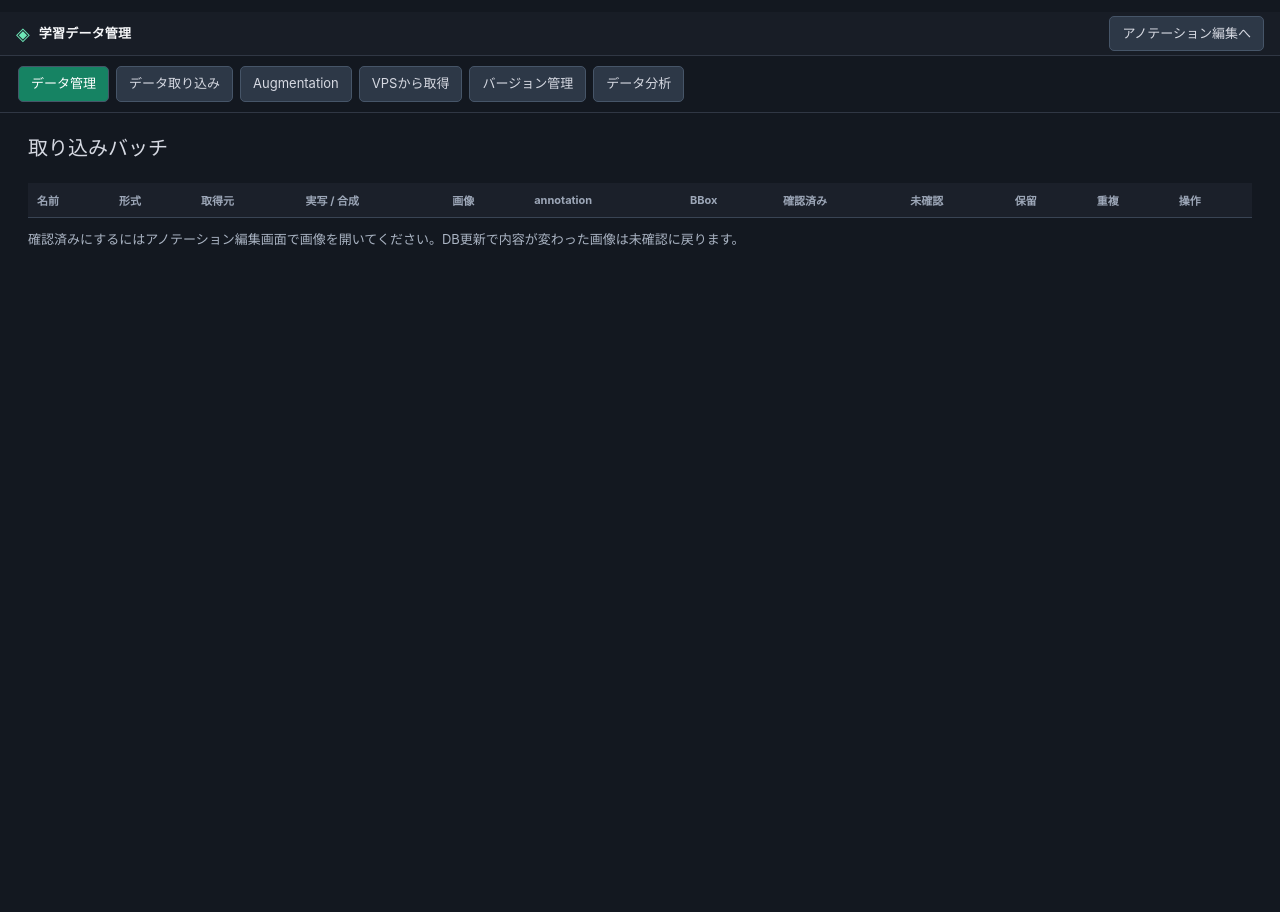
Test case: summarizes an older verbose version result and lets the user dismiss it
This screenshot has width=1280, height=912.
Click the button "バージョン管理" at x=528, y=84, box [469, 66, 586, 102]
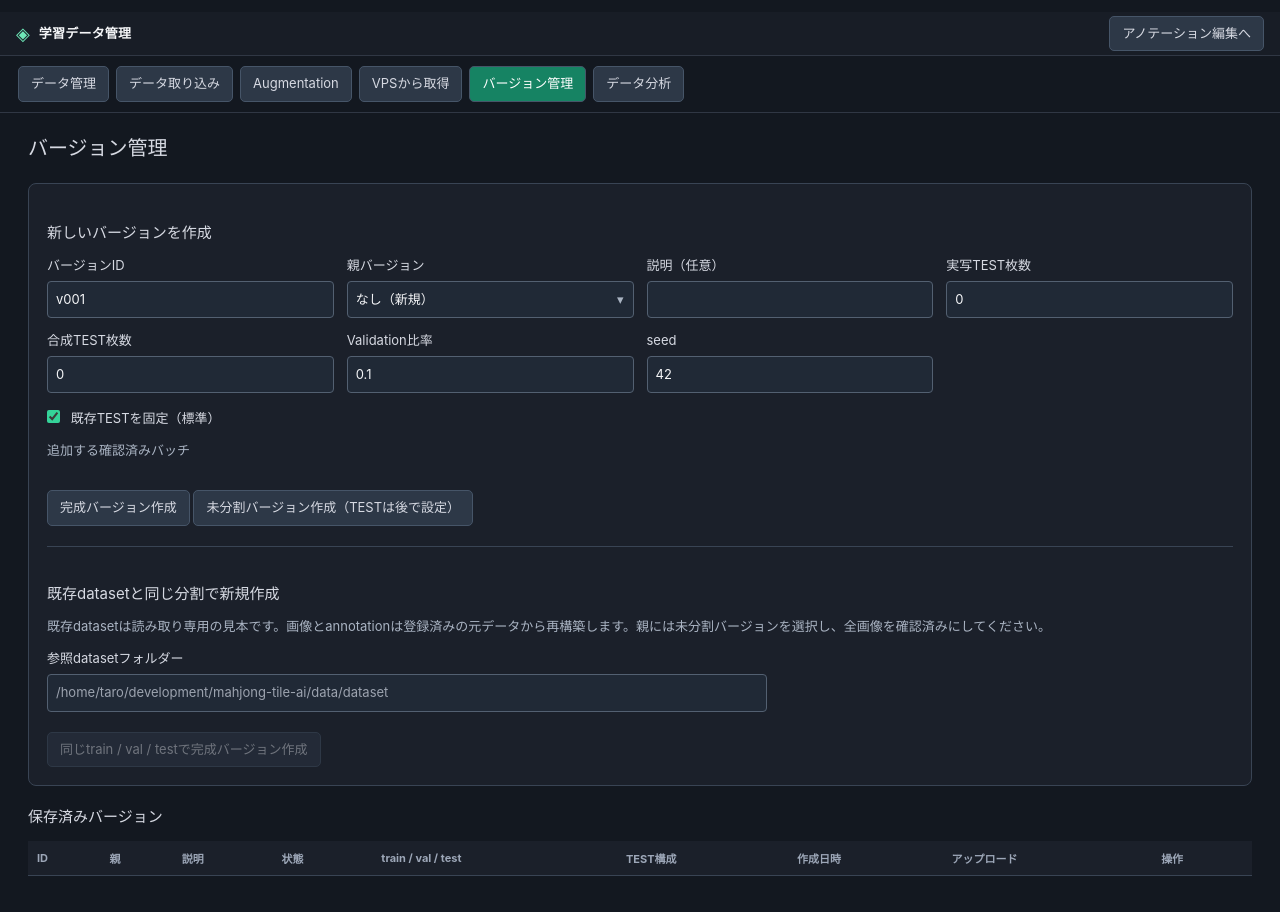
Click the button "完成バージョン作成" at x=118, y=508, box [47, 490, 190, 526]
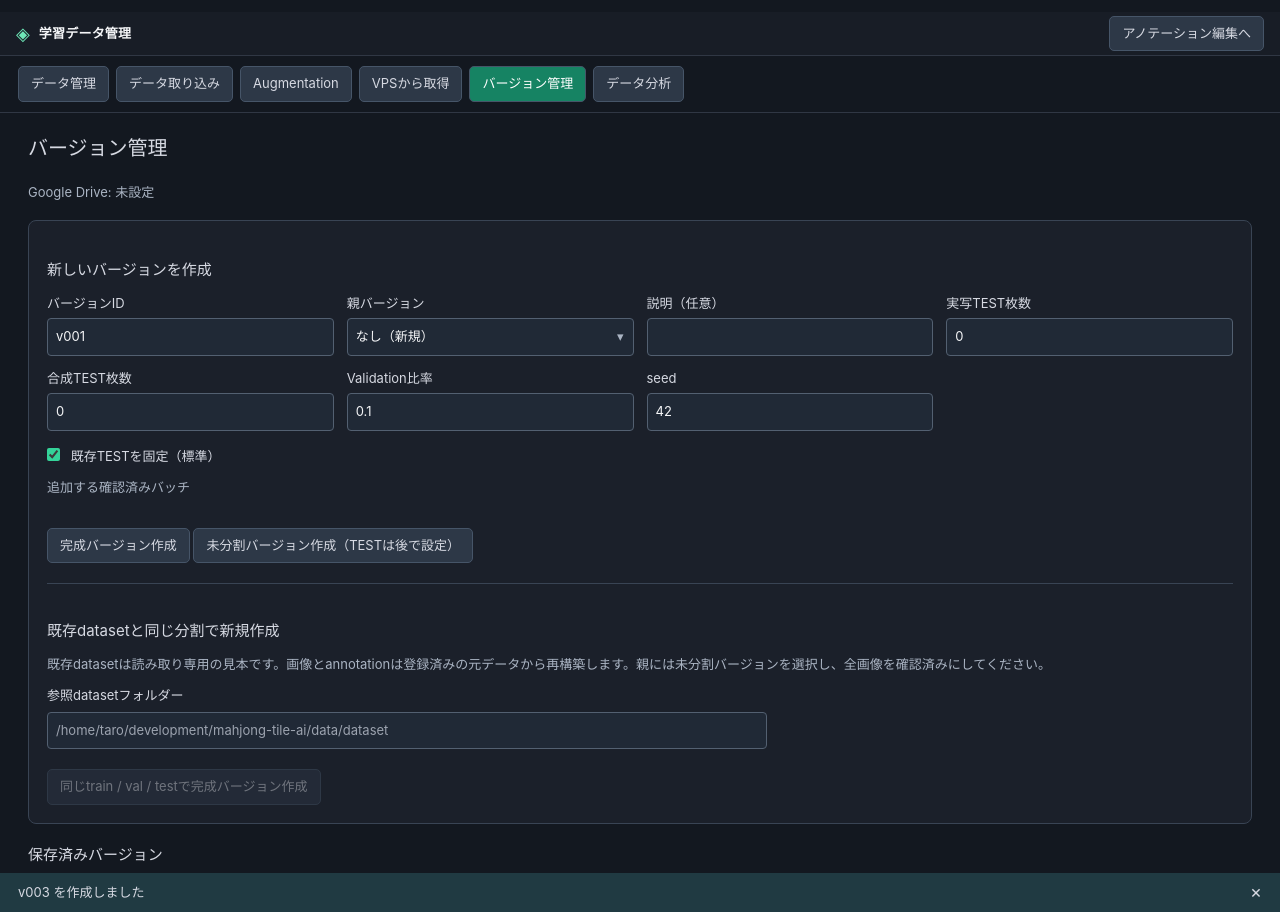
Result: the text "v003 を作成しました" is shown at [18, 882, 144, 902]
Click the button named "完了通知を閉じる" at x=1256, y=892, box [1250, 882, 1262, 900]
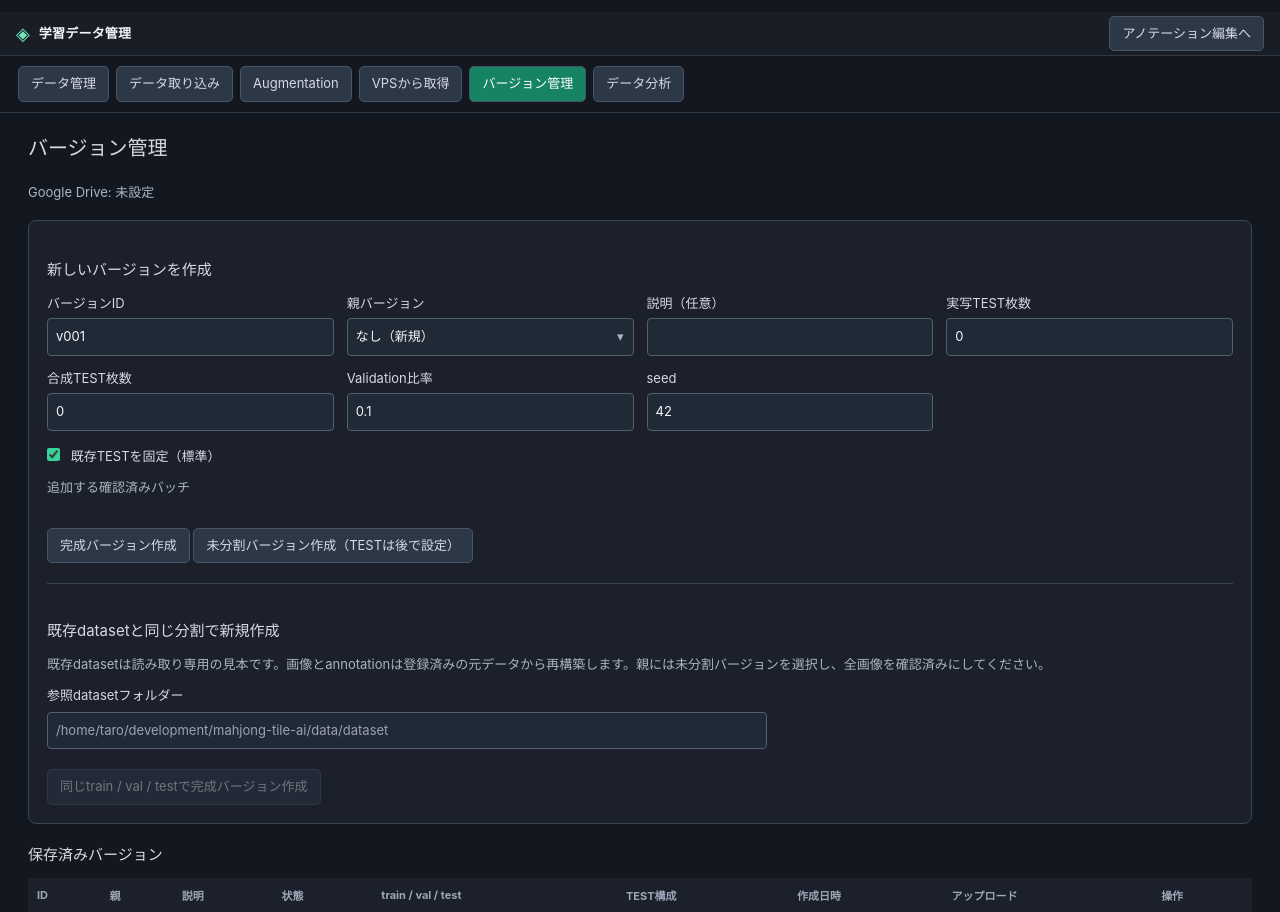
Result: the text "v003 を作成しました" is gone
